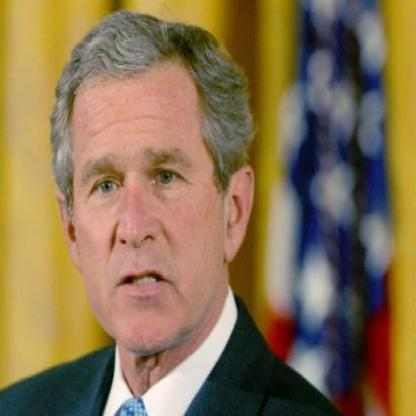face: (66, 26, 230, 358)
